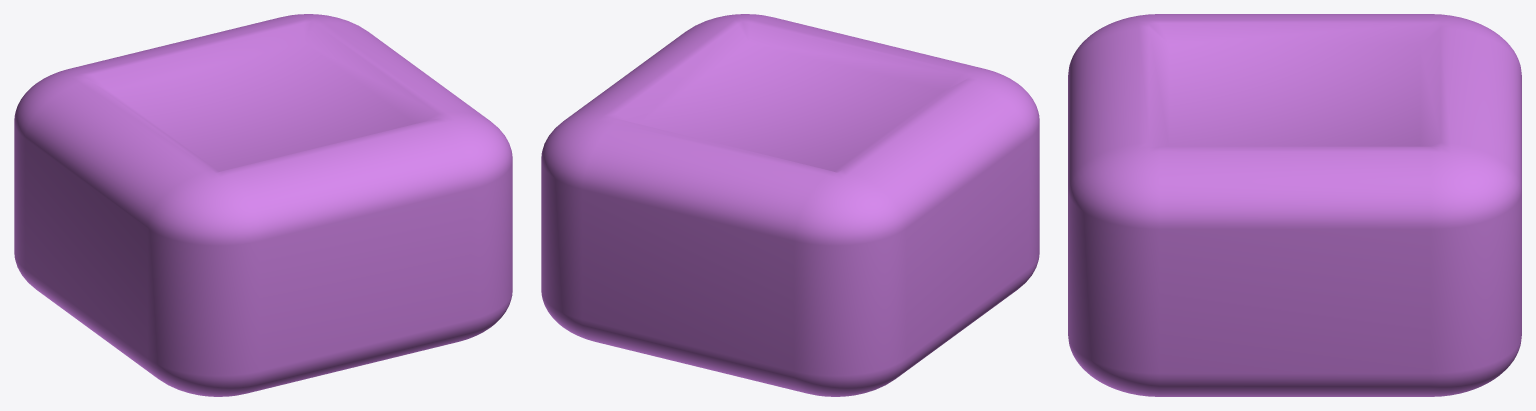
File: textcube.fbx
3 views of the same model, side by side, from view 1: azimuth 30°, elevation 25°; view 2: azimuth 150°, elevation 25°; view 3: azimuth 270°, elevation 25° (orthographic). The views are drawn at different scales.
Parts seen in each view (by area): view 1: Cube; view 2: Cube; view 3: Cube.
Boxes of the visible parts, left/top/right/bottom form: Cube: left=14, top=14, right=512, bottom=396; Cube: left=541, top=14, right=1039, bottom=396; Cube: left=1068, top=14, right=1521, bottom=396.
Size of the model in its own units: 200 by 117 by 200.
